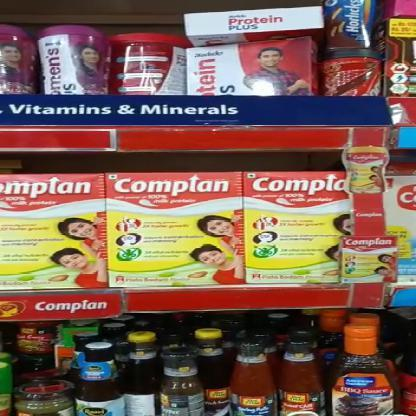Complan Pista Badam: (108, 174, 244, 289), (0, 175, 107, 287), (242, 173, 345, 287)
